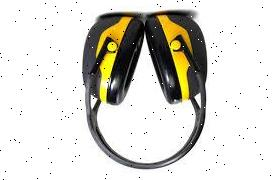Ear_protector: (145, 4, 206, 121), (85, 1, 138, 117)
